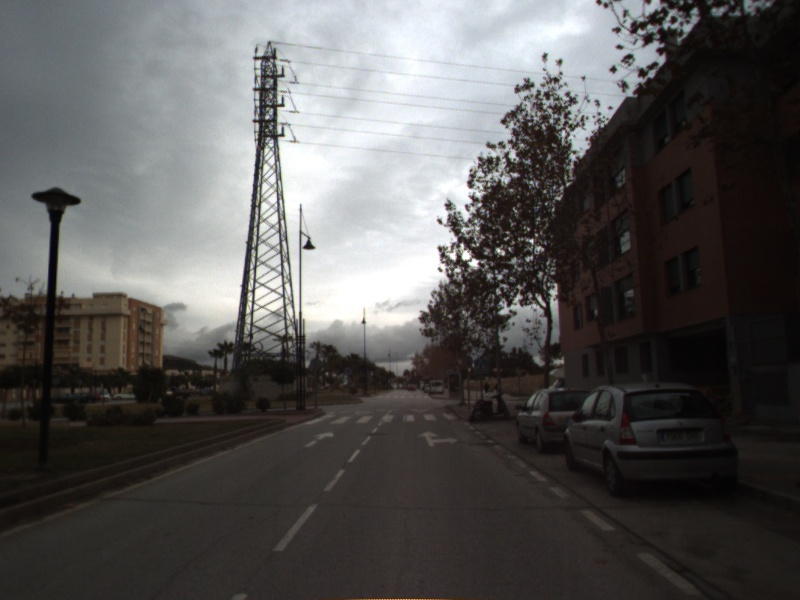STRAIGHT: (302, 428, 337, 450)
STRAIGHT_RIGHT: (415, 428, 460, 449)
